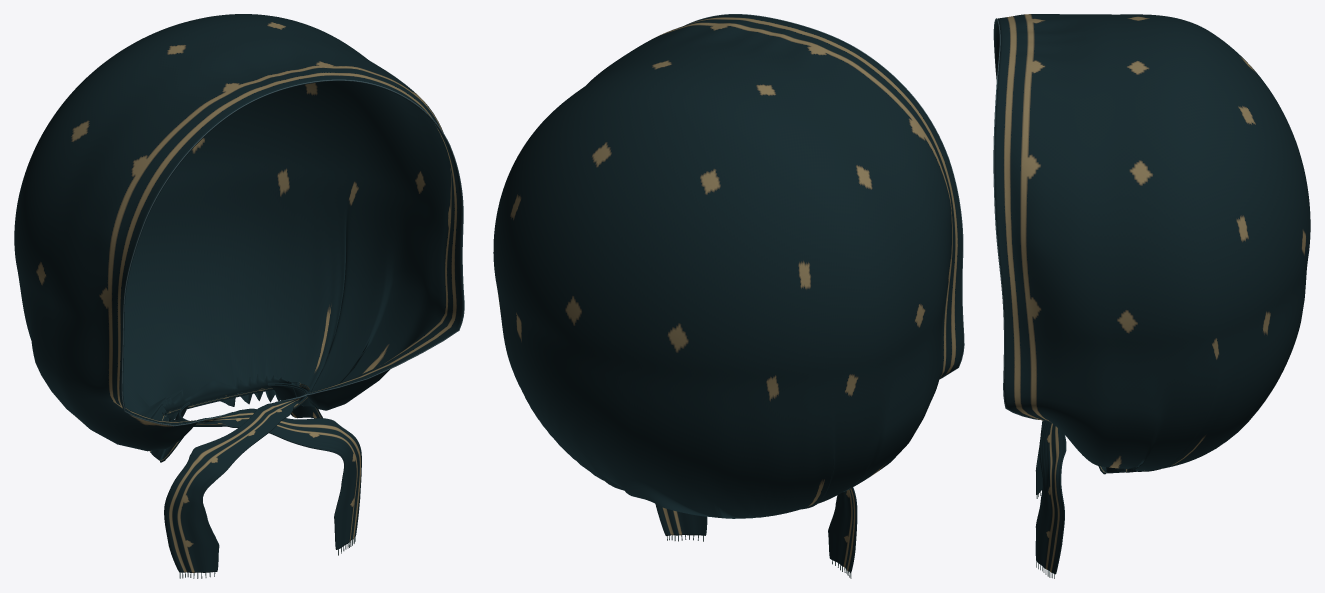
The model's file is Masculine-middle-part-buttonup-pashmina250-headgear.glb.
The picture shows the model from 3 angles, left to right: view 1: azimuth 30°, elevation 25°; view 2: azimuth 150°, elevation 25°; view 3: azimuth 270°, elevation 25°; orthographic projection. The views are drawn at different scales.
Parts seen in each view (by area): view 1: 226 headgear / Headwear / continuous woven pashmina239, 226 headgear / Headwear / face edge239; view 2: 226 headgear / Headwear / continuous woven pashmina239, 226 headgear / Headwear / face edge239; view 3: 226 headgear / Headwear / continuous woven pashmina239, 226 headgear / Headwear / face edge239.
Boxes of the visible parts, x1,y1,x2,y2 form: 226 headgear / Headwear / continuous woven pashmina239: (14,14,463,572); 226 headgear / Headwear / face edge239: (121,79,464,426); 226 headgear / Headwear / continuous woven pashmina239: (493,14,963,572); 226 headgear / Headwear / face edge239: (685,14,964,379); 226 headgear / Headwear / continuous woven pashmina239: (994,14,1310,574); 226 headgear / Headwear / face edge239: (993,18,1038,419).
Bounding box in the file's own units: 1.1 × 1.39 × 0.7949.
3 materials, 1 textured.
